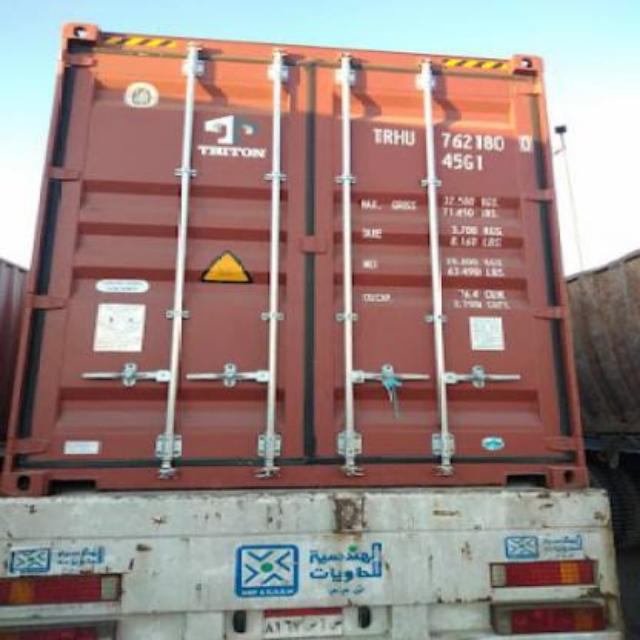0: (494, 135, 510, 153)
1: (472, 130, 484, 150)
2: (464, 132, 476, 150)
6: (452, 129, 464, 147)
7: (441, 130, 454, 144)
8: (486, 134, 498, 150)
H: (396, 124, 406, 146)
R: (384, 128, 394, 142)
T: (372, 126, 384, 144)
U: (404, 128, 416, 148)
